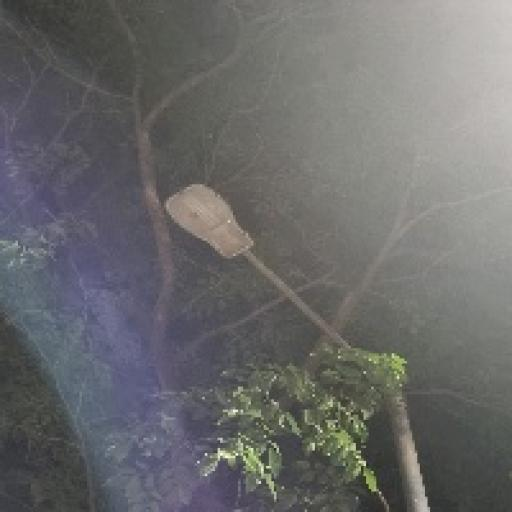Not Working: (147, 170, 275, 275)
